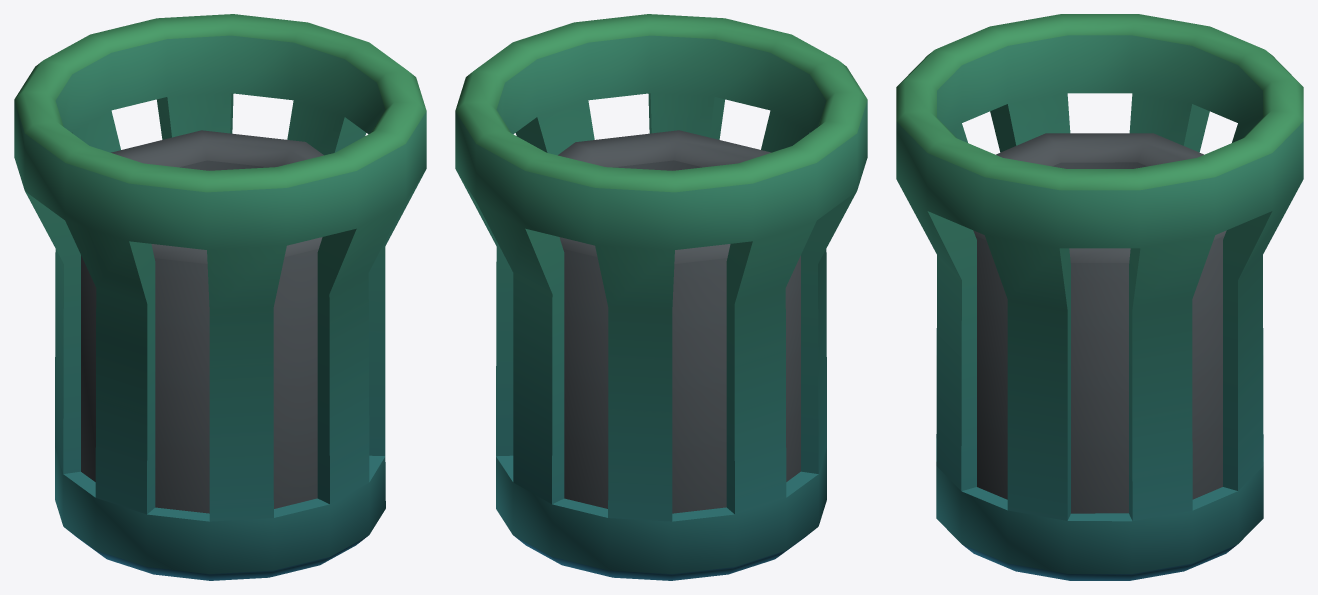
Rendered from trashcan.fbx.
3 views of the same model, side by side, from view 1: azimuth 30°, elevation 25°; view 2: azimuth 150°, elevation 25°; view 3: azimuth 270°, elevation 25° (orthographic).
Parts seen in each view (by area): view 1: trashcan; view 2: trashcan; view 3: trashcan.
Boxes of the visible parts, x1,y1,x2,y2 form: trashcan: (14, 14, 426, 580); trashcan: (455, 14, 867, 580); trashcan: (896, 14, 1303, 580).
Size of the model in its own units: 1 by 1.14 by 1.
